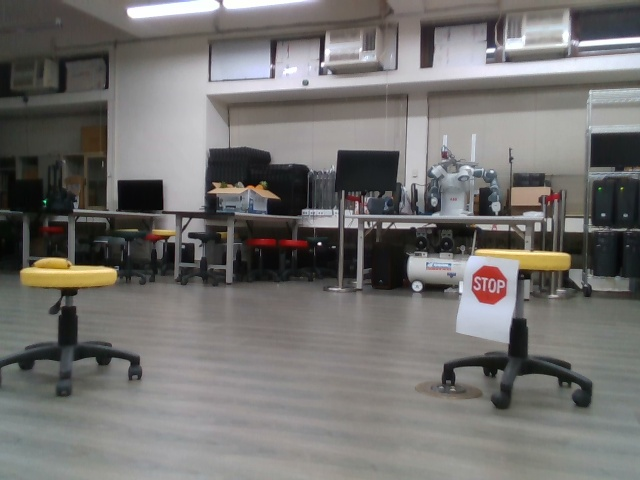banana: (32, 256, 74, 273)
stop: (468, 265, 508, 307)
